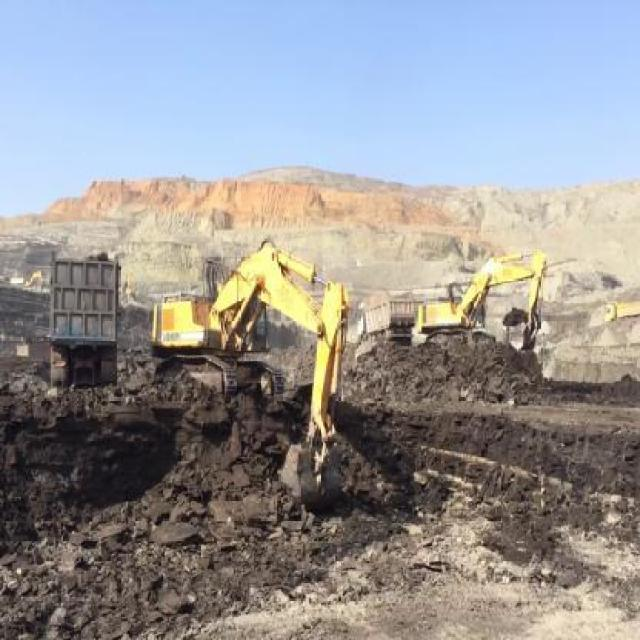dump_truck: (45, 251, 121, 395), (356, 296, 410, 342), (606, 305, 640, 323)
excavator: (149, 235, 348, 508), (413, 245, 556, 390)
